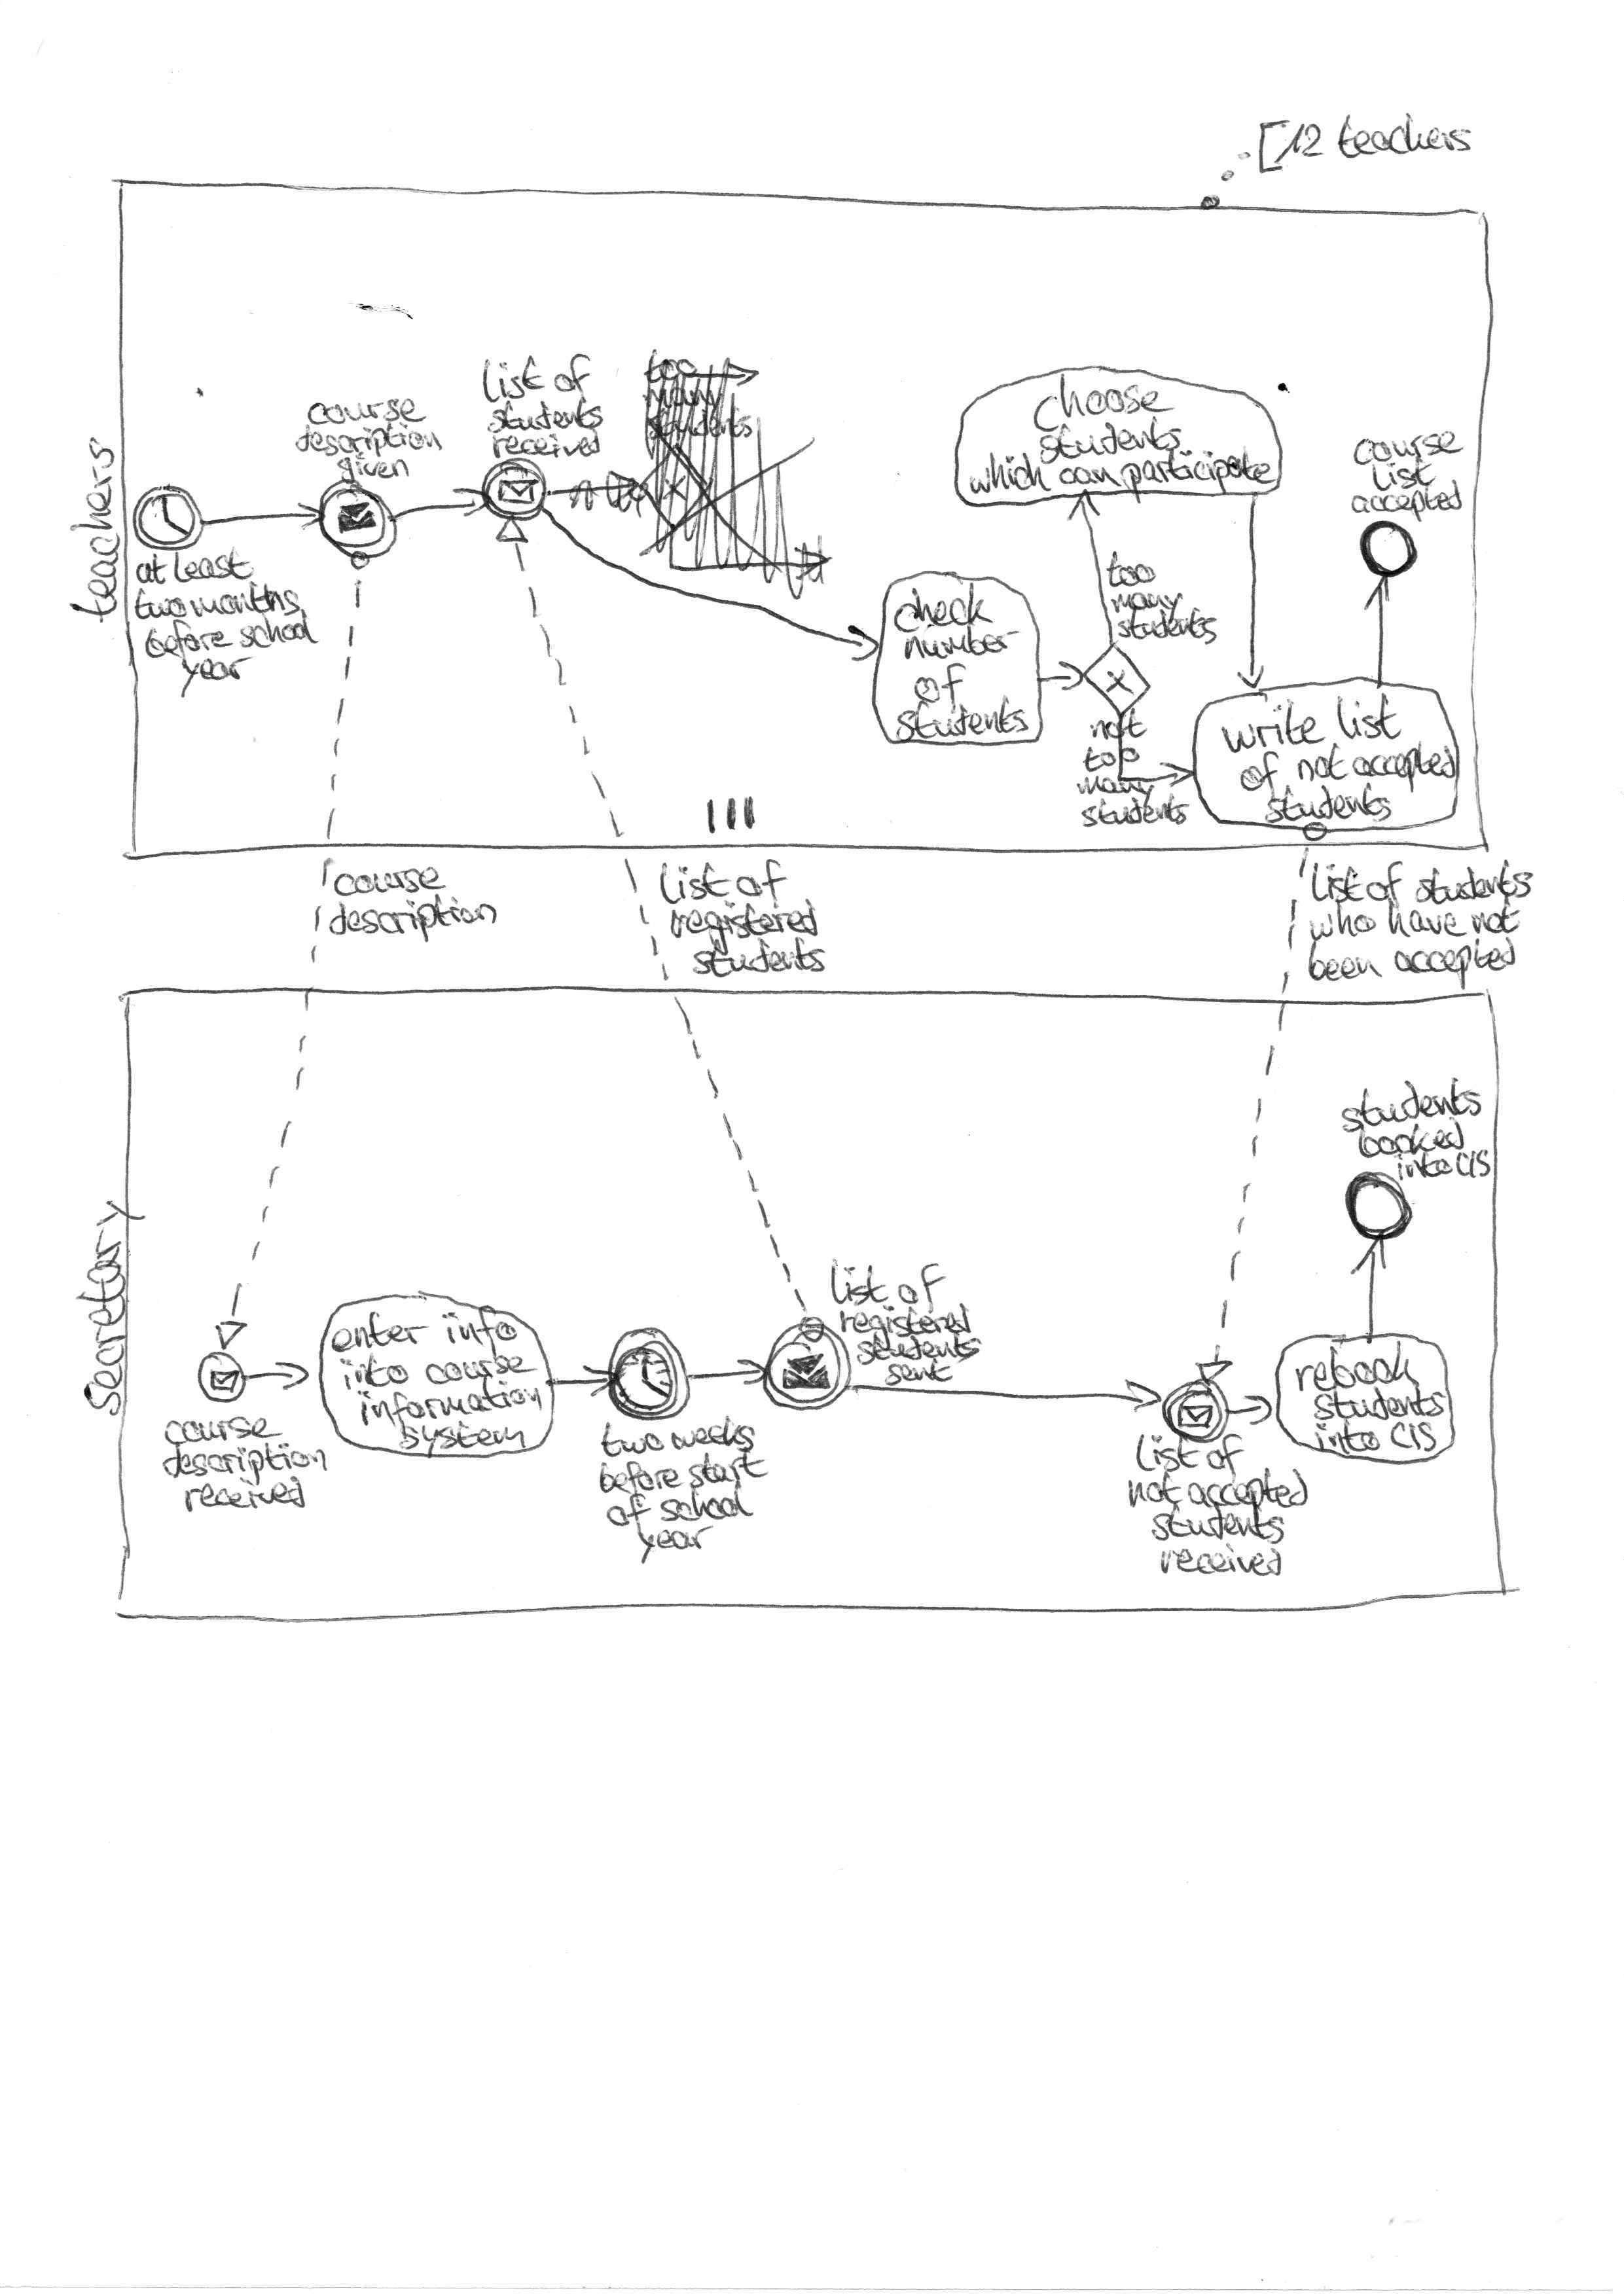12: (1275, 119, 1326, 158)
CIS: (1387, 1419, 1441, 1454), (1453, 1146, 1493, 1184)
Choose: (1028, 381, 1164, 441)
III: (703, 795, 760, 835)
List: (1306, 856, 1364, 906), (1130, 1434, 1202, 1473), (1367, 460, 1443, 494)
Secretary: (80, 1195, 141, 1419)
Students: (892, 701, 1036, 746), (695, 940, 829, 981), (855, 1333, 990, 1364)
accepted: (1390, 932, 1525, 986), (1180, 1470, 1315, 1519), (1347, 741, 1460, 787), (1345, 484, 1473, 518)
at: (135, 554, 168, 587)
been: (1305, 935, 1384, 984)
before: (594, 1454, 685, 1498), (139, 621, 233, 662)
booked: (1355, 1119, 1471, 1163)
can: (1056, 462, 1120, 488)
check: (890, 590, 1001, 638)
course: (156, 1409, 277, 1449), (329, 863, 449, 899), (301, 395, 425, 430), (422, 1349, 533, 1388), (1346, 437, 1464, 473)
description: (324, 895, 507, 943), (162, 1442, 332, 1483), (288, 423, 446, 458)
enter: (327, 1314, 428, 1356)
given: (331, 456, 416, 484)
have: (1384, 896, 1468, 938)
information: (352, 1388, 547, 1437)
into: (439, 1306, 522, 1348), (339, 1355, 416, 1392), (1308, 1421, 1386, 1455), (1389, 1150, 1459, 1180)
least: (169, 546, 255, 587)
list: (1333, 692, 1407, 743), (655, 859, 732, 907), (825, 1257, 889, 1309), (475, 359, 544, 406)
many: (1071, 773, 1161, 805), (1106, 589, 1191, 620)
months: (186, 579, 309, 619)
not: (1124, 1470, 1181, 1511), (1293, 743, 1350, 783), (1086, 707, 1149, 741), (1466, 899, 1522, 936)
number: (899, 630, 1026, 669)
of: (734, 854, 792, 905), (912, 660, 971, 712), (893, 1259, 947, 1313), (544, 353, 595, 403), (1236, 749, 1284, 799), (1204, 1432, 1249, 1480), (1365, 857, 1408, 907), (604, 1492, 657, 1530)
participate: (1119, 450, 1279, 503)
rebook: (1294, 1345, 1427, 1394)
received: (180, 1476, 310, 1516), (1153, 1545, 1291, 1578), (486, 431, 608, 461)
registered: (666, 897, 823, 950), (835, 1301, 976, 1348)
school: (654, 1488, 752, 1530), (233, 615, 321, 656)
sent: (880, 1356, 958, 1390)
start: (685, 1458, 766, 1496)
students: (1335, 1091, 1485, 1140), (1031, 427, 1188, 469), (1411, 859, 1538, 908), (1262, 785, 1397, 831), (1147, 1502, 1288, 1545), (1313, 1387, 1450, 1426), (486, 395, 607, 436), (1074, 791, 1197, 830), (1113, 607, 1221, 645)
system: (395, 1422, 528, 1455)
teachers: (65, 436, 119, 624), (1331, 112, 1485, 165)
too: (1099, 549, 1161, 588), (1079, 744, 1142, 774)
two: (597, 1419, 668, 1464), (130, 585, 194, 621)
weeks: (672, 1416, 763, 1456)
which: (967, 449, 1049, 496)
who: (1305, 904, 1378, 945)
write: (1215, 712, 1326, 761)
year: (633, 1523, 714, 1562), (178, 653, 255, 695)
